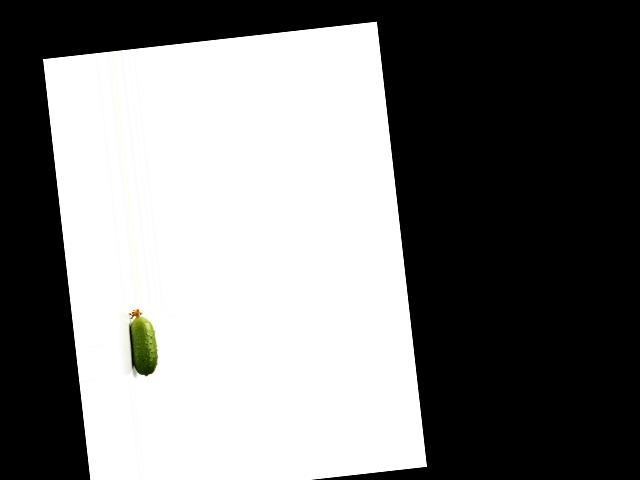cucumber: (126, 308, 159, 378)
